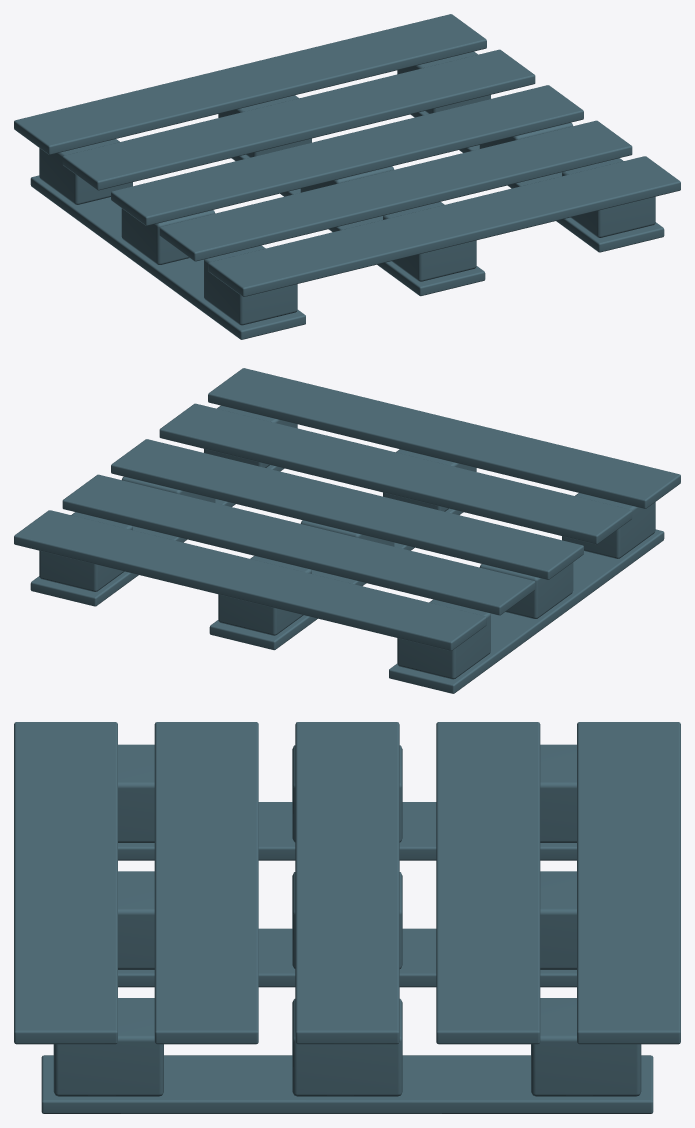
Rendered from plastic-pallet.glb.
The picture shows the model from 3 angles, top to bottom: view 1: azimuth 30°, elevation 25°; view 2: azimuth 150°, elevation 25°; view 3: azimuth 270°, elevation 25°; orthographic projection. The views are drawn at different scales.
Visible parts, largest first — view 1: Deck_board.003, Deck_board.001, Deck_board.004, Deck_board.002, Deck_board, Runner, Support_block, Support_block.003, Support_block.006, Support_block.002, Support_block.001, Runner.002 (+3 smaller); view 2: Deck_board.001, Deck_board.003, Deck_board, Deck_board.002, Deck_board.004, Runner, Support_block.002, Support_block.005, Support_block.008, Support_block, Support_block.001, Runner.002 (+3 smaller); view 3: Deck_board.002, Deck_board.001, Deck_board.003, Deck_board, Deck_board.004, Runner.002, Support_block.006, Support_block.008, Support_block.007, Runner.001, Runner, Support_block (+5 smaller).
Part boxes in pixels (x1,y1,x2,y2): Deck_board.003: (62,49,535,190); Deck_board.001: (159,120,632,261); Deck_board.004: (14,14,486,154); Deck_board.002: (111,85,583,225); Deck_board: (208,156,680,296); Runner: (30,175,305,339); Support_block: (204,245,297,325); Support_block.003: (383,202,476,281); Support_block.006: (562,158,655,237); Support_block.002: (39,139,132,204); Support_block.001: (121,208,215,264); Runner.002: (410,111,664,252); Deck_board.001: (159,403,632,544); Deck_board.003: (62,474,535,615); Deck_board: (208,368,680,508); Deck_board.002: (111,439,583,579); Deck_board.004: (14,510,486,650); Runner: (389,529,664,693); Support_block.002: (397,599,490,679); Support_block.005: (218,556,311,635); Support_block.008: (39,512,132,591); Support_block: (562,493,655,558); Support_block.001: (479,562,573,618); Runner.002: (30,465,284,606); Deck_board.002: (295,722,399,1044); Deck_board.001: (154,722,258,1044); Deck_board.003: (436,722,540,1044); Deck_board: (14,722,117,1044); Deck_board.004: (577,722,680,1044); Runner.002: (41,1055,653,1113); Support_block.006: (53,998,163,1096); Support_block.008: (531,998,641,1096); Support_block.007: (292,999,402,1096); Runner.001: (118,928,576,987); Runner: (118,802,576,860); Support_block: (118,744,154,842).
Size of the model in its own units: 1.2 by 0.16 by 1.09.
